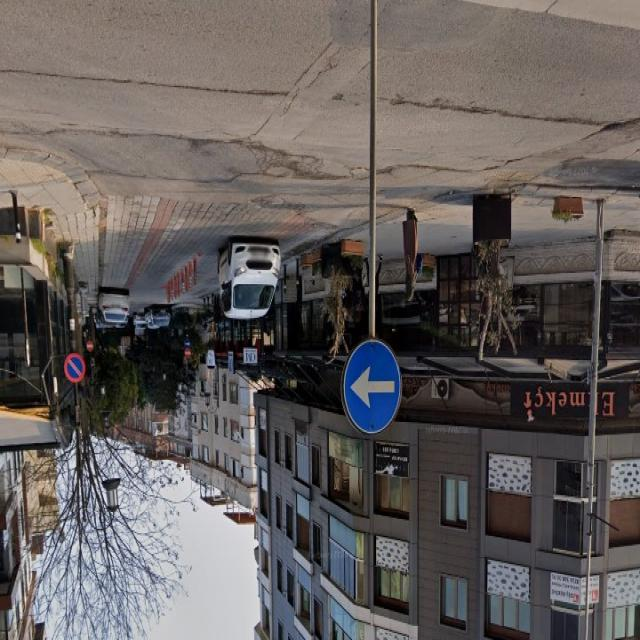Turn Left: (338, 335, 408, 436)
